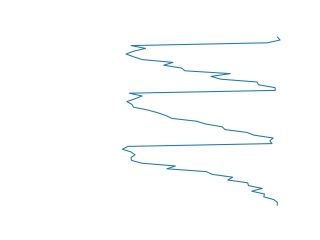distributaryMouthBar: (120, 37, 283, 206)
